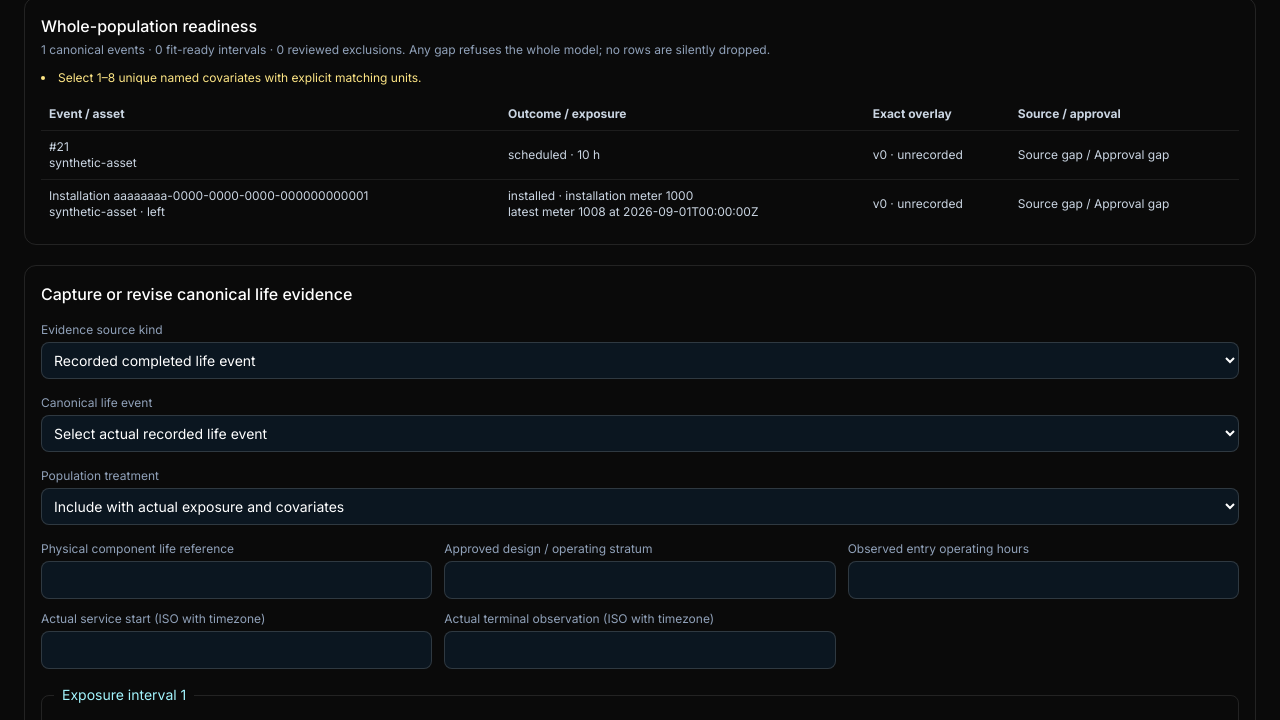
Test: governed covariate survival workbench › captures canonical meter/evidence references with explicit condition inputs, not caller lifecycle identity or age
Later steps or results of the test are not shown.
(page scrolled)
Check: the heading "Whole-population readiness" is shown, box [41,16,257,36]
Select "Canonical component installation" in the dropdown labelled "Evidence source kind": (640, 360) [41,342,1239,379]
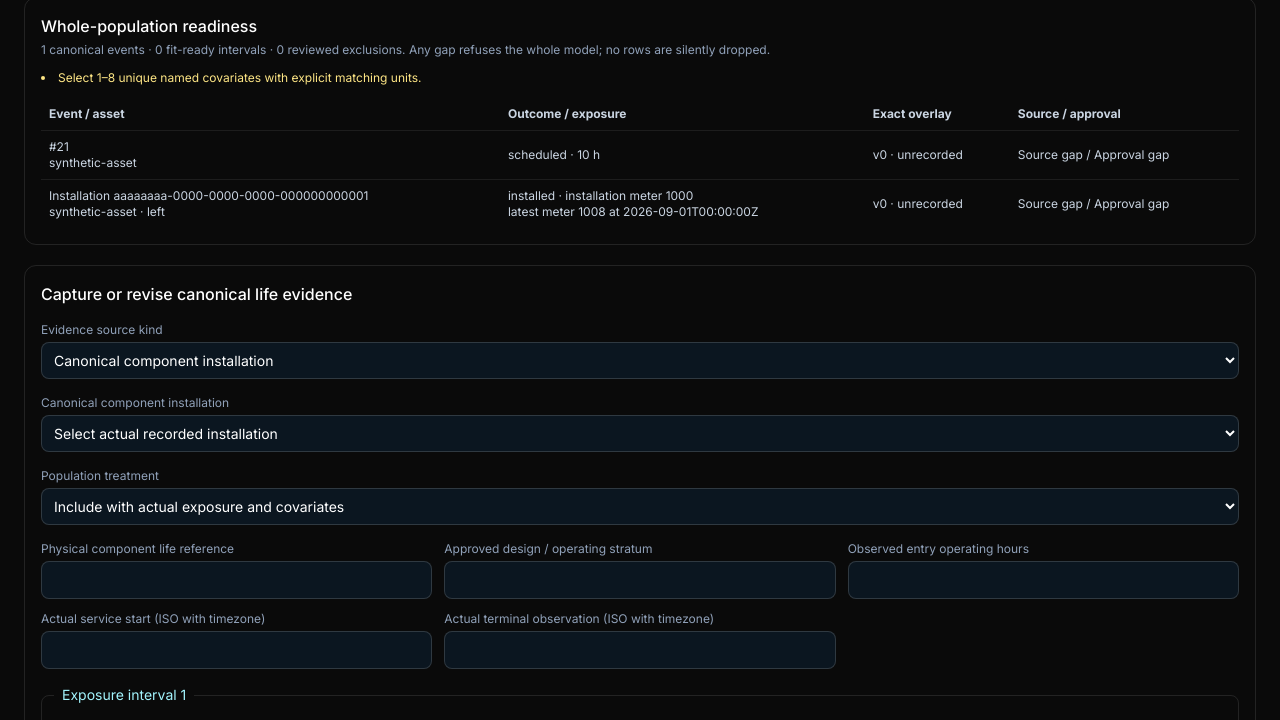
Select "aaaaaaaa-0000-0000-0000-000000000001 · installed · left · v0" in the dropdown labelled "Canonical component installation": (640, 434) [41,415,1239,452]
(page scrolled)
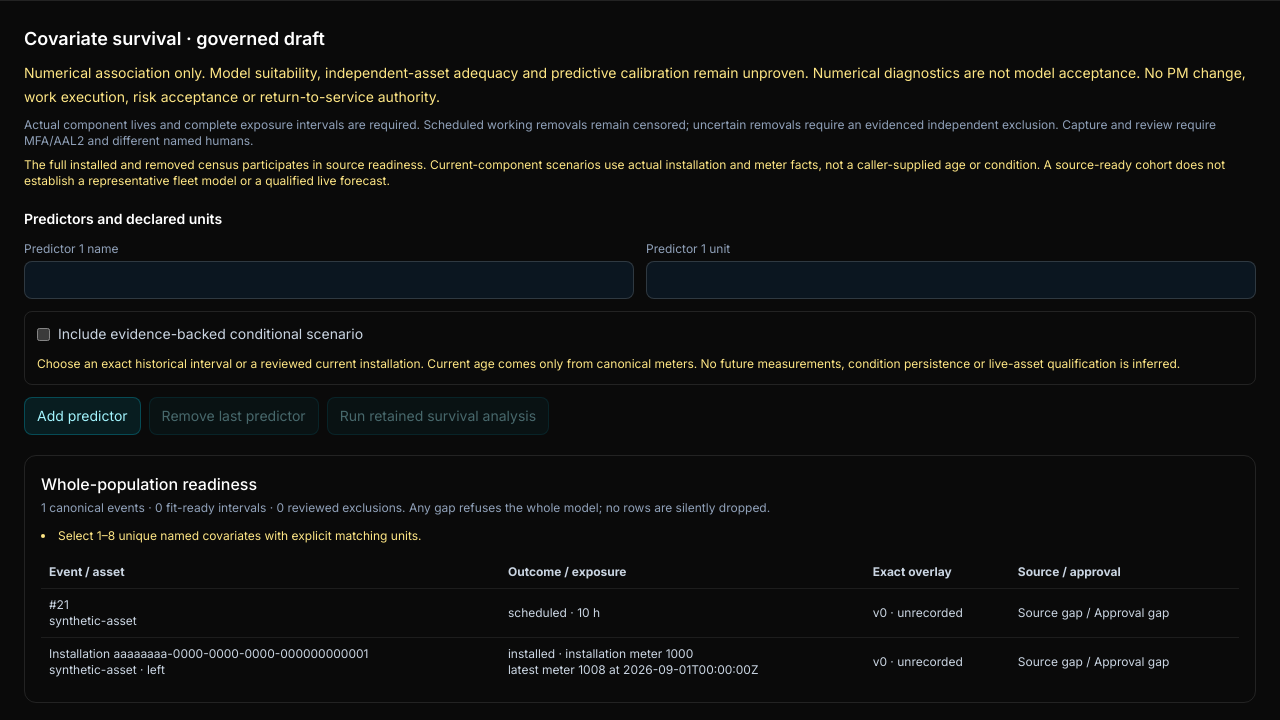
Check: the label labelled "Physical component life reference" is gone
Check: the label labelled "Actual service start (ISO with timezone)" is gone
